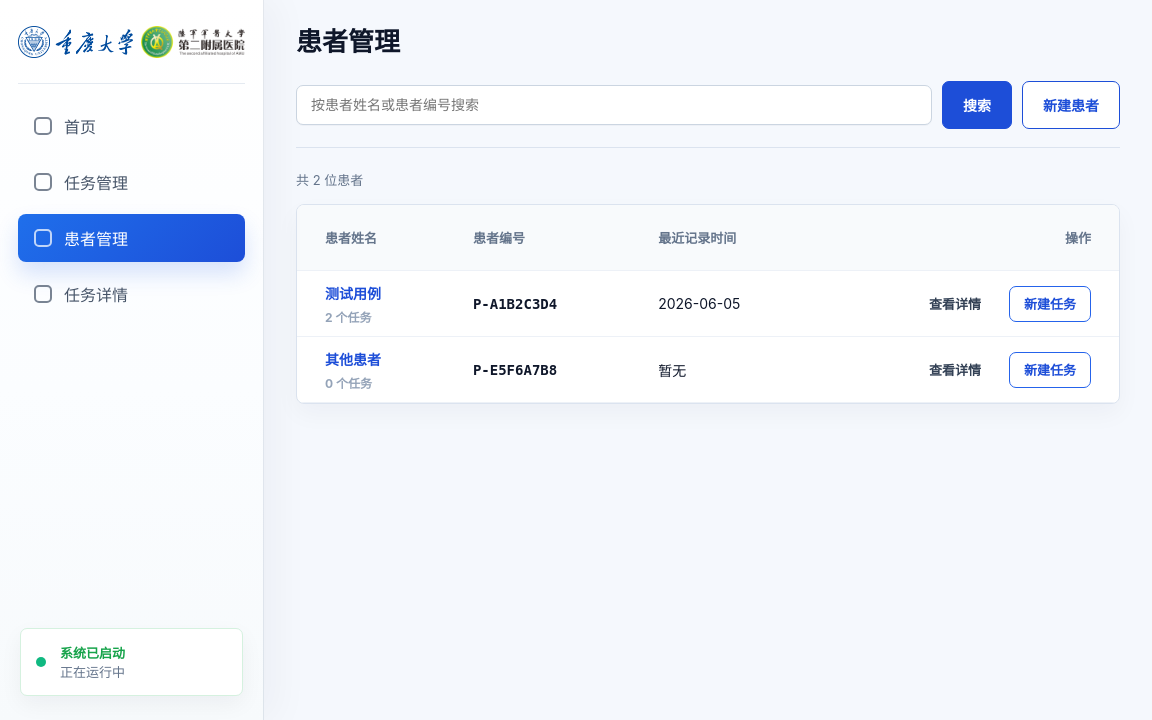
Test: PatientsPage › searches by name or patient id and updates the list
The width and height of the screenshot is (1152, 720).
Type "P-A1B2C3D4" into the search field labelled "按患者姓名或患者编号搜索".
click(614, 104); type("P-A1B2C3D4")  # box x1=296 y1=84 x2=932 y2=124
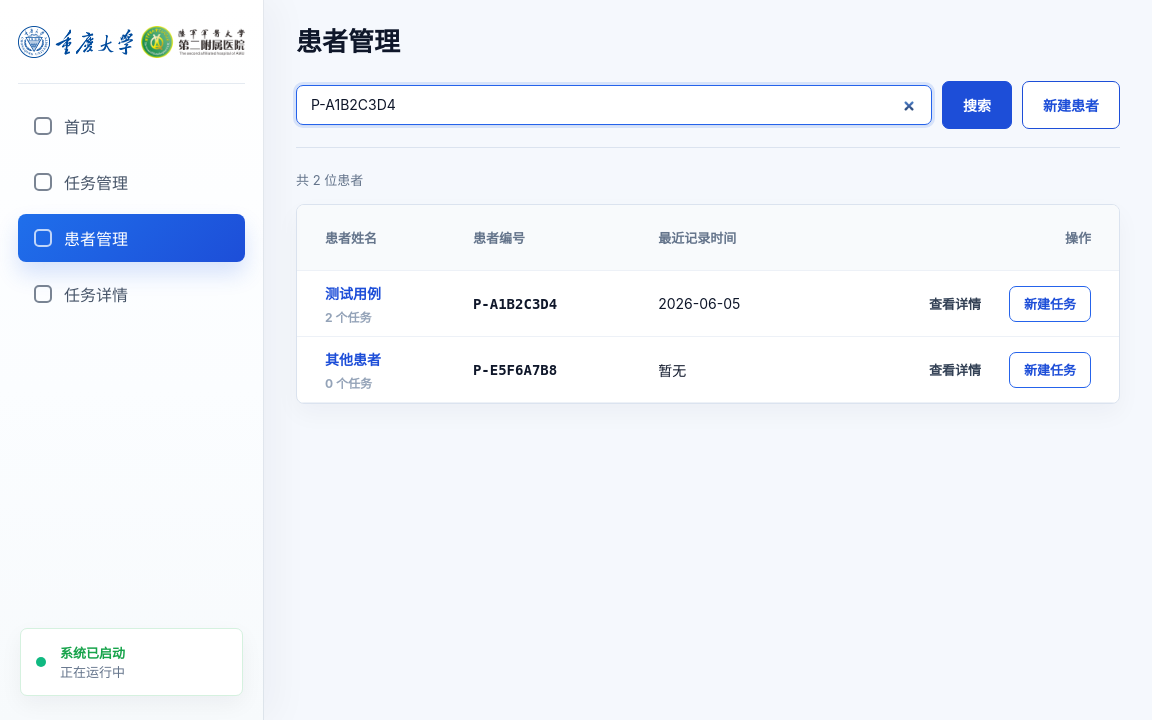
Click the button "搜索".
click(977, 104)  # box x1=942 y1=80 x2=1012 y2=128
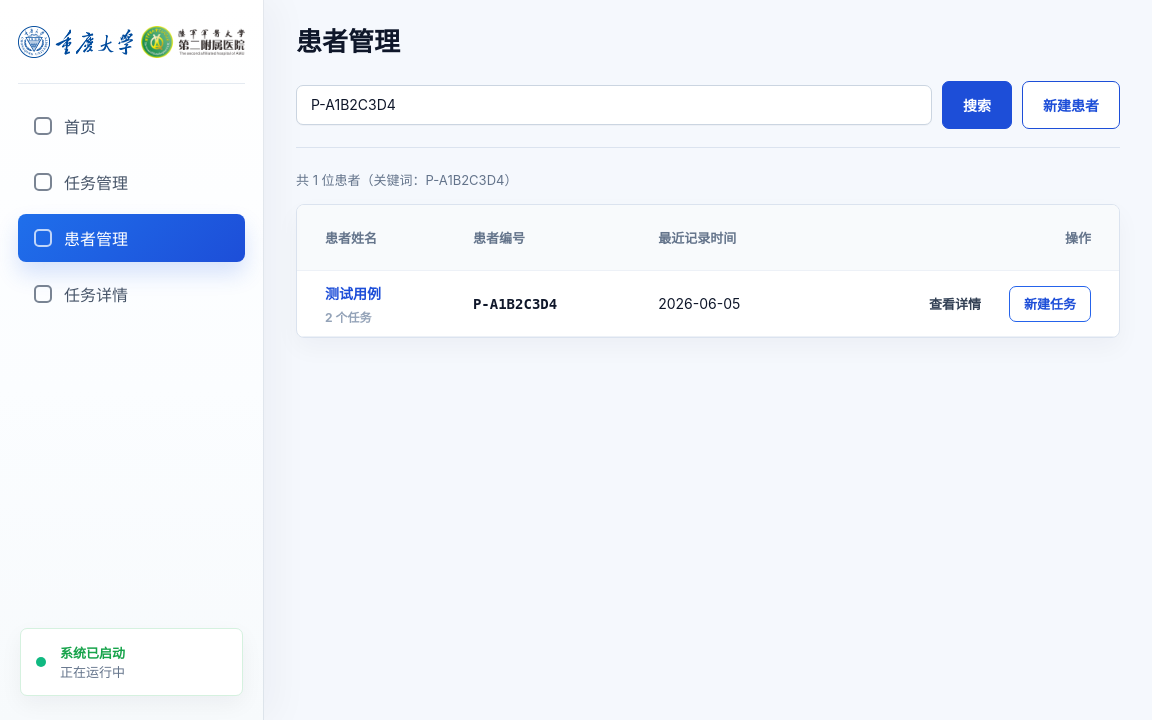
Expected: the text "P-A1B2C3D4" is shown, x1=473 y1=296 x2=557 y2=312
Expected: the text "P-E5F6A7B8" is gone
